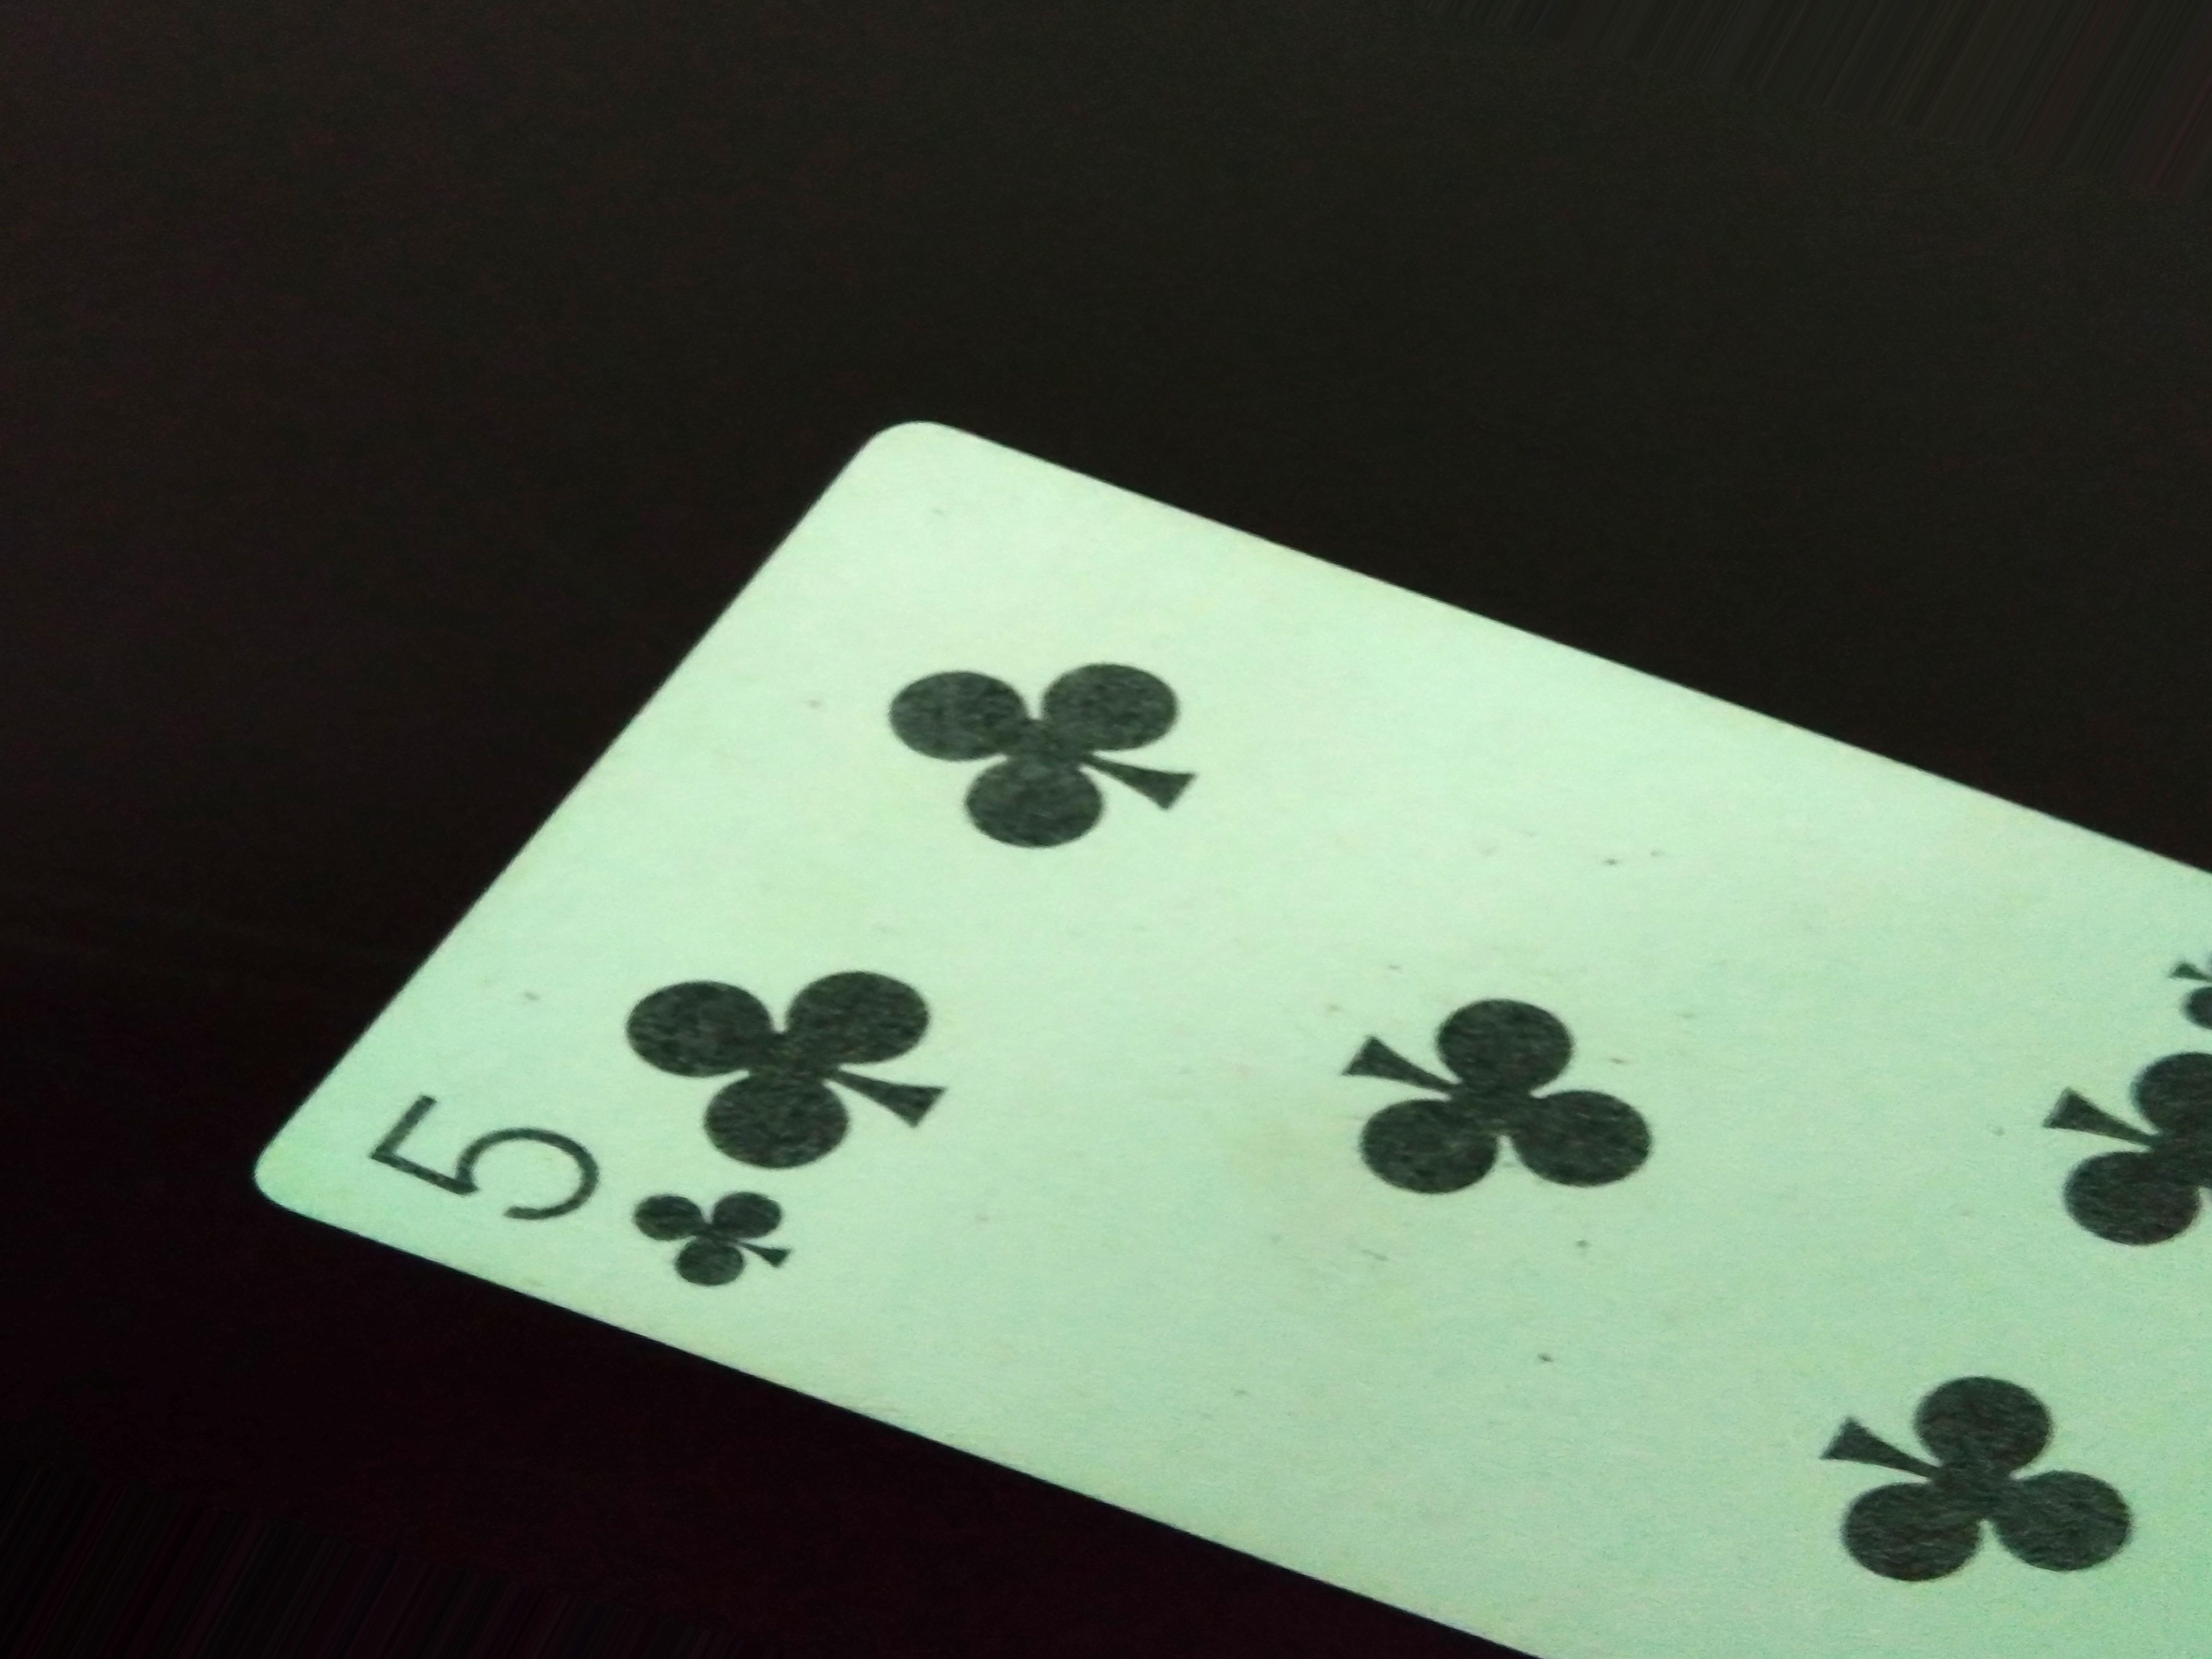5C: (359, 1066, 815, 1305)
